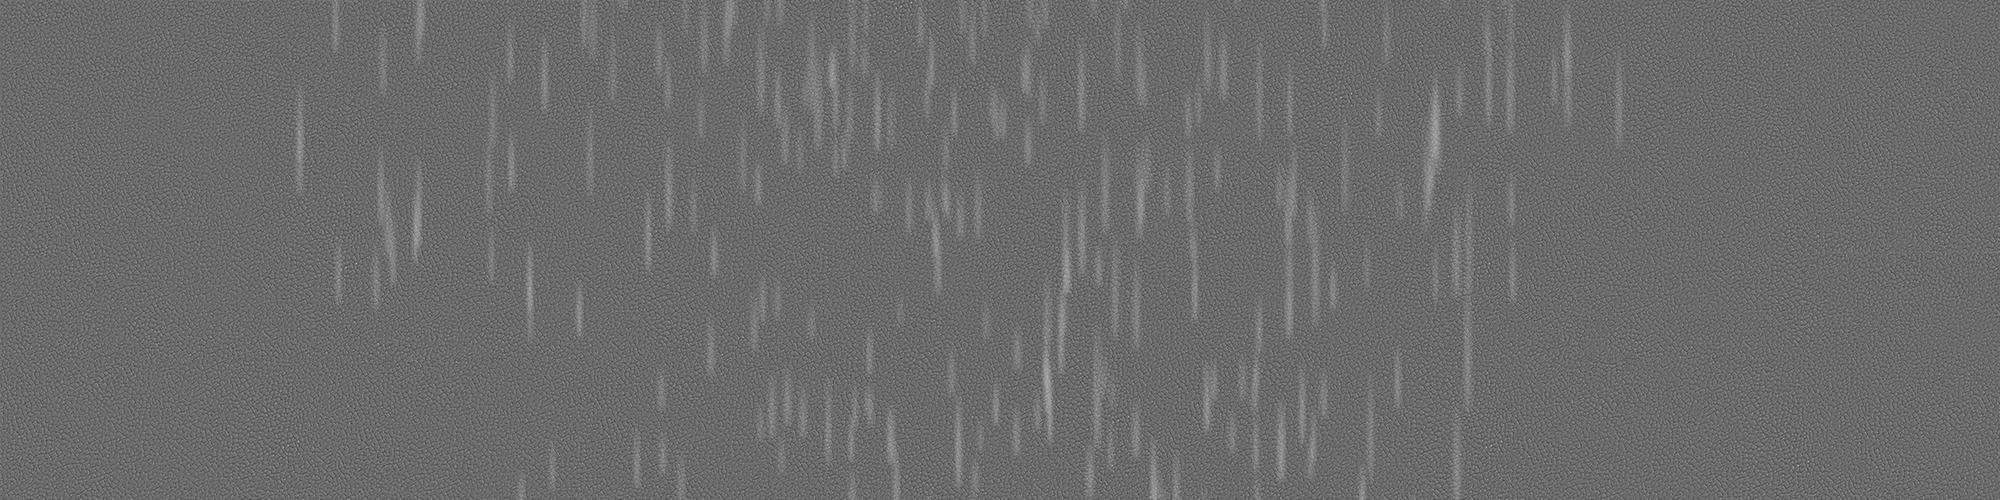Streaks: (1415, 4, 1494, 497), (1450, 3, 1649, 151), (643, 3, 737, 293), (1274, 51, 1351, 344), (1074, 134, 1170, 355), (1071, 327, 1194, 499), (1173, 6, 1233, 337), (534, 3, 622, 209), (952, 6, 1060, 170), (774, 3, 869, 190), (864, 165, 986, 307), (330, 134, 423, 315), (932, 323, 1028, 499), (1196, 301, 1270, 500), (1024, 179, 1074, 448), (844, 315, 911, 497), (879, 8, 946, 159), (482, 18, 518, 292), (1073, 6, 1156, 121), (625, 364, 694, 500), (1349, 347, 1409, 500), (1269, 349, 1338, 482), (733, 5, 774, 224), (746, 365, 810, 483), (735, 261, 793, 355), (937, 335, 971, 500), (1497, 163, 1526, 330), (503, 427, 562, 500), (282, 79, 314, 200), (518, 235, 543, 355), (1355, 80, 1399, 145), (812, 369, 841, 472), (1253, 33, 1274, 149), (402, 1, 431, 79), (1372, 1, 1402, 75), (700, 307, 723, 393), (372, 23, 394, 108), (1386, 171, 1415, 233), (571, 270, 594, 346), (321, 3, 347, 66), (974, 286, 999, 347), (1316, 3, 1337, 69), (1358, 241, 1384, 292), (894, 286, 911, 355), (801, 304, 821, 343)
